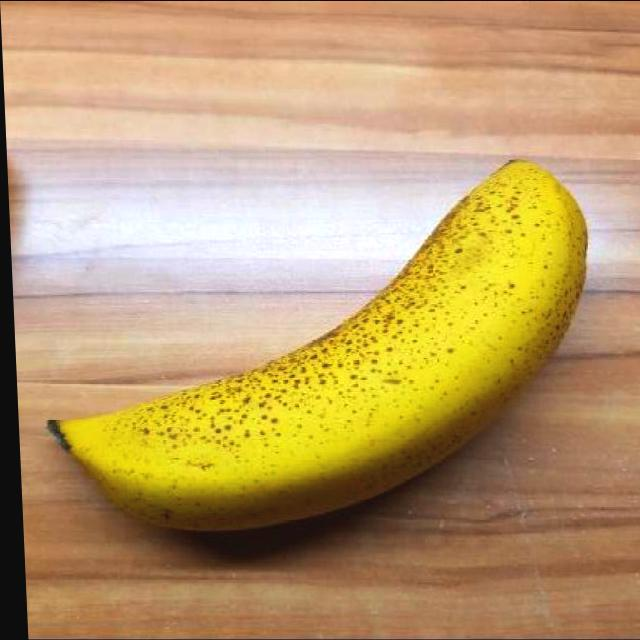banana: (37, 152, 605, 536)
